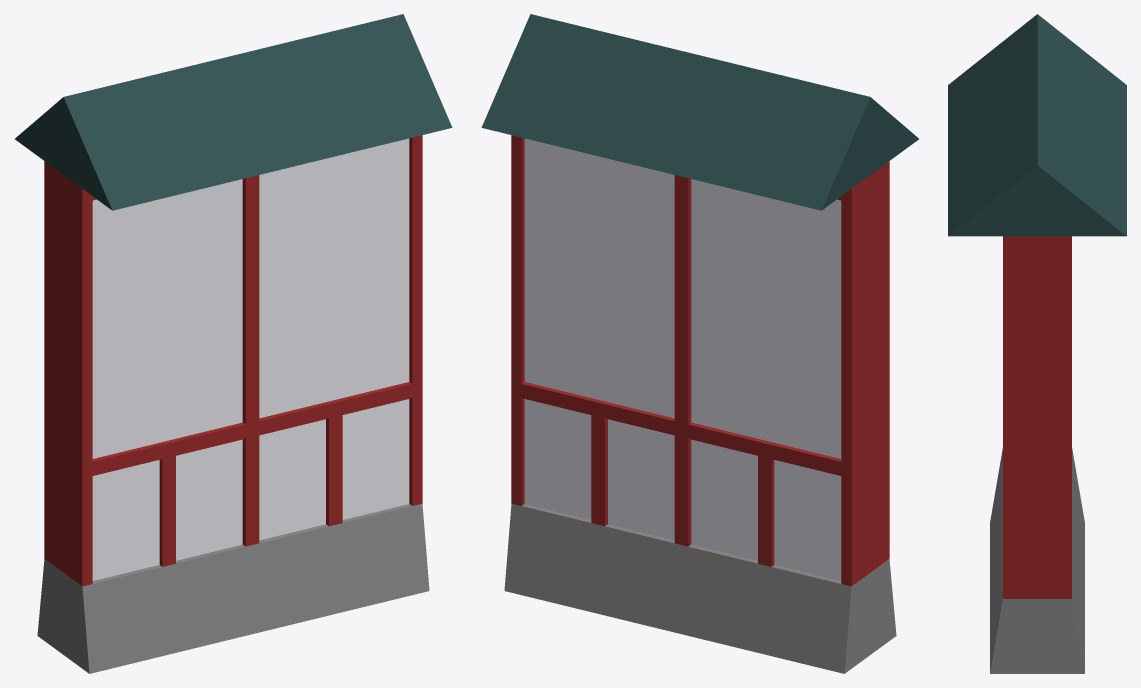
The model's file is Asian_Prop_Building_Fence_Wall_Framed_Small_01.FBX.
The picture shows the model from 3 angles, left to right: view 1: azimuth 30°, elevation 25°; view 2: azimuth 150°, elevation 25°; view 3: azimuth 270°, elevation 25°; orthographic projection. The views are drawn at different scales.
Parts seen in each view (by area): view 1: Asian_Prop_Building_Fence_Wall_Framed_Small_01; view 2: Asian_Prop_Building_Fence_Wall_Framed_Small_01; view 3: Asian_Prop_Building_Fence_Wall_Framed_Small_01.
Part boxes in pixels (x1=…): Asian_Prop_Building_Fence_Wall_Framed_Small_01: x1=15, y1=14, x2=452, y2=673; Asian_Prop_Building_Fence_Wall_Framed_Small_01: x1=481, y1=14, x2=918, y2=673; Asian_Prop_Building_Fence_Wall_Framed_Small_01: x1=948, y1=14, x2=1126, y2=673.
Bounding box in the file's own units: 2584 × 4051 × 1290.
